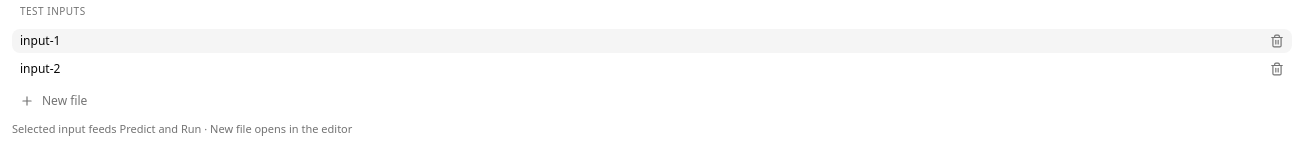
Test: TestInputsSection request policy › projects deleted test input locally without refetching the list
Click the button named "Delete test input input-1" at (1277,41), box top-left (1270, 34), bottom-right (1284, 48)
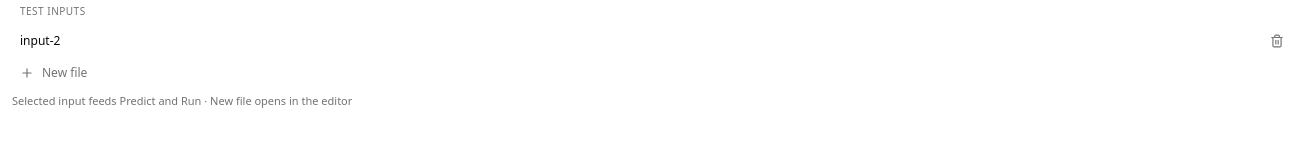
Expected: the text "input-2" is shown, top-left (20, 33), bottom-right (1262, 49)
Now the text "input-1" is gone
